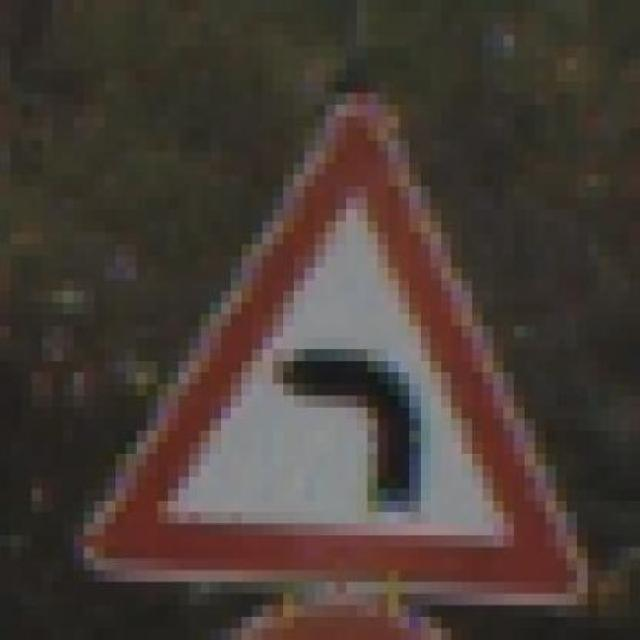Dangerous Left Curve Ahead: (52, 92, 610, 617)
